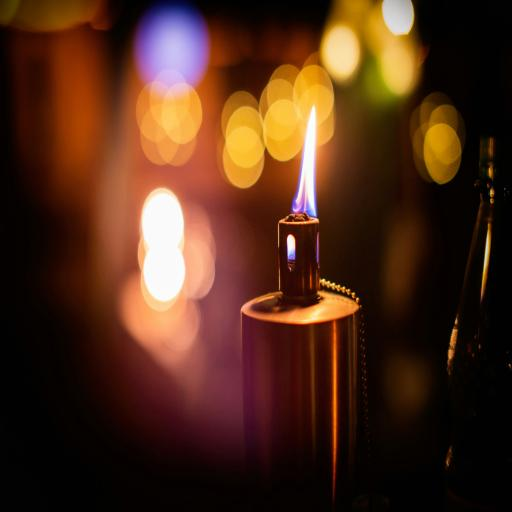fire: (288, 94, 334, 202)
lighter: (237, 85, 396, 512)
